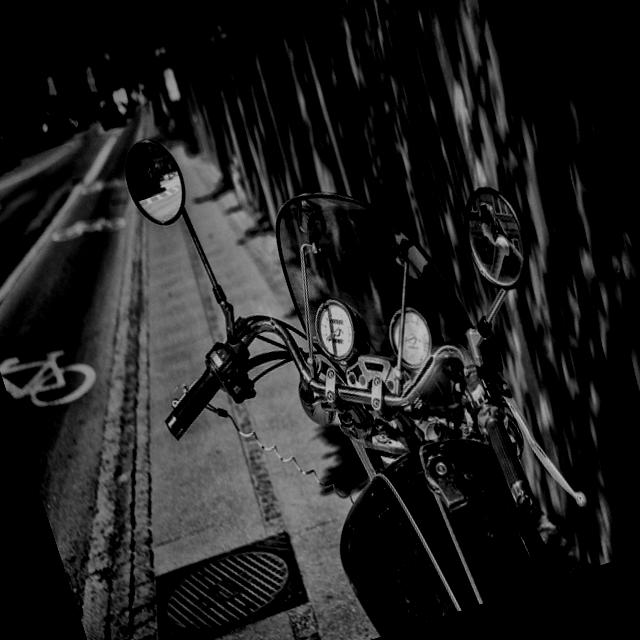Vehicle: (73, 36, 626, 640)
